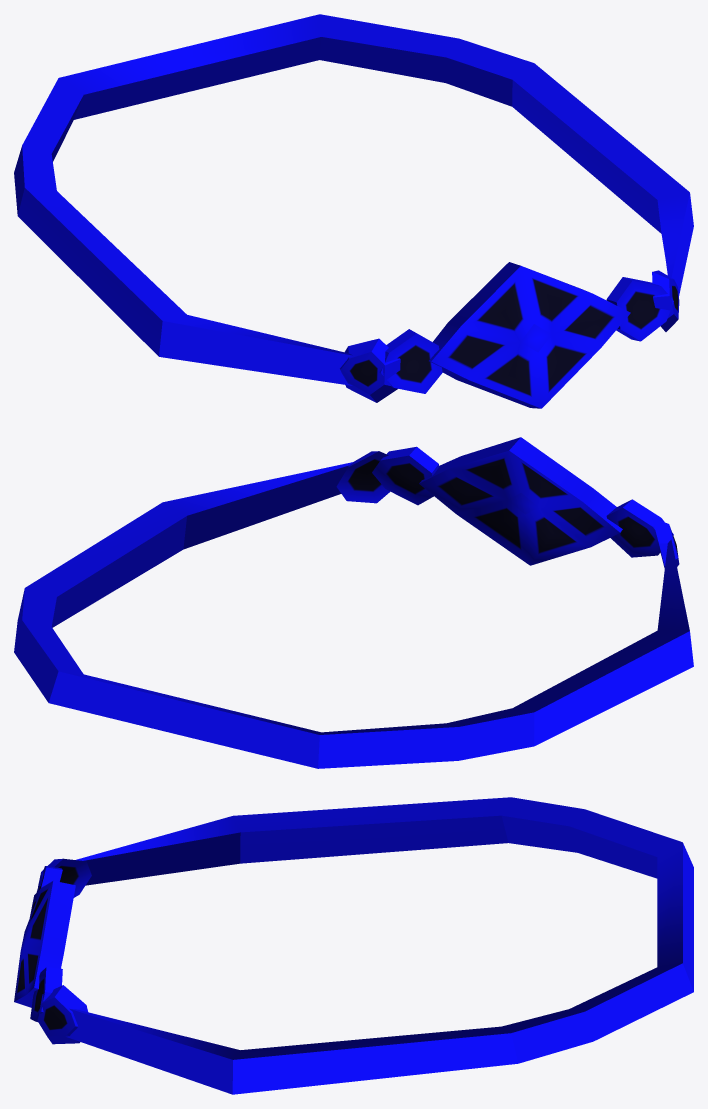
3 views of the same model, one above another, from view 1: azimuth 30°, elevation 25°; view 2: azimuth 150°, elevation 25°; view 3: azimuth 270°, elevation 25° (orthographic). The views are drawn at different scales.
Visible parts, largest first — view 1: Circlet_F; view 2: Circlet_F; view 3: Circlet_F.
Boxes of the visible parts, left/top/right/bottom form: Circlet_F: left=14, top=14, right=693, bottom=408; Circlet_F: left=14, top=437, right=693, bottom=768; Circlet_F: left=14, top=797, right=693, bottom=1094.
Size of the model in its own units: 0.1937 by 0.0469 by 0.2247.
Materials: 1 (1 with a texture image).
